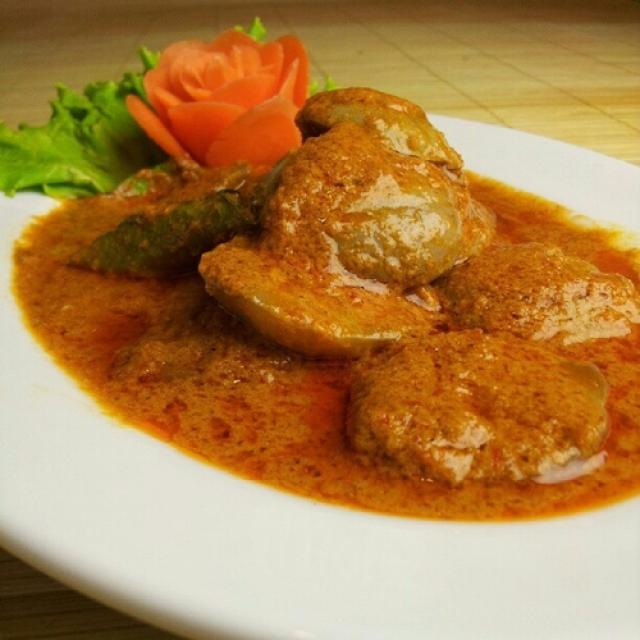熟制海鲜: (13, 45, 631, 576)
